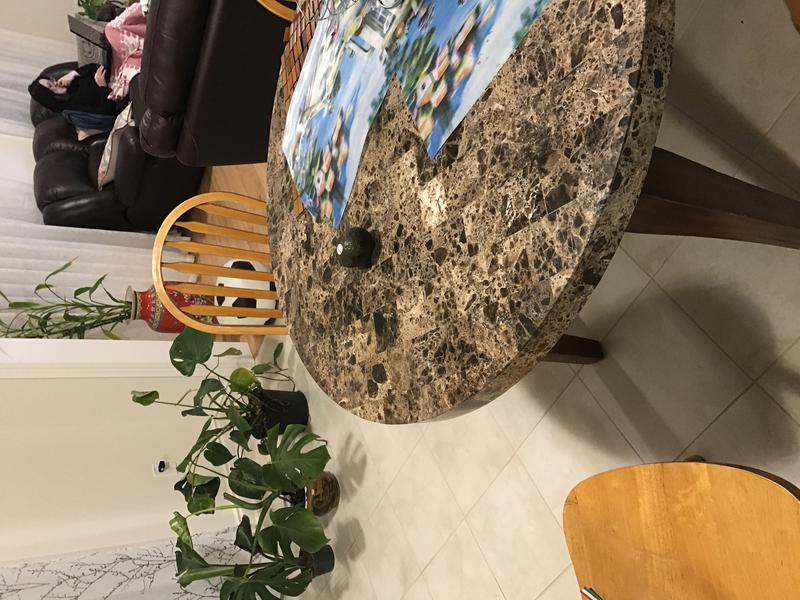avocado: (330, 227, 378, 272)
